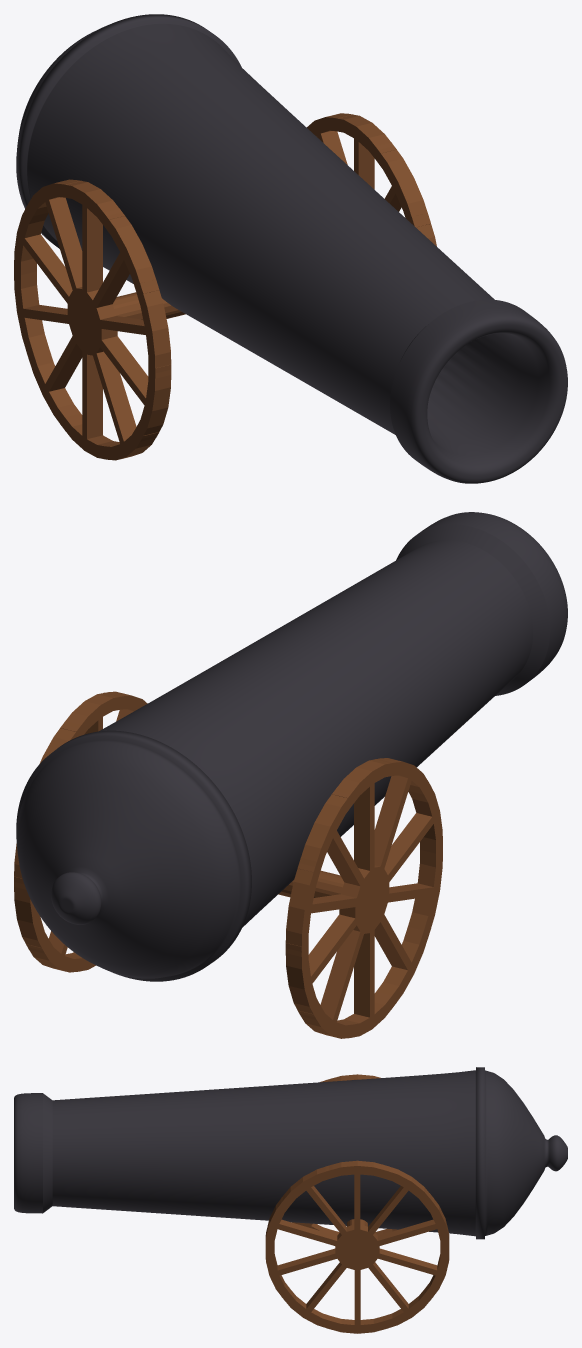
3 renders of one model, top to bottom at view 1: azimuth 30°, elevation 25°; view 2: azimuth 150°, elevation 25°; view 3: azimuth 270°, elevation 25°, orthographic. The views are drawn at different scales.
Parts seen in each view (by area): view 1: 円柱; view 2: 円柱; view 3: 円柱.
Boxes of the visible parts, left/top/right/bottom form: 円柱: left=14, top=14, right=567, bottom=483; 円柱: left=14, top=512, right=567, bottom=1038; 円柱: left=14, top=1067, right=567, bottom=1333.
Bounding box in the file's own units: 2428 × 2636 × 6217.
